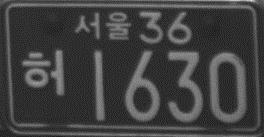0: (208, 51, 247, 126)
1: (89, 47, 110, 122)
3: (165, 49, 203, 122), (138, 10, 164, 45)
6: (124, 50, 161, 122), (167, 10, 192, 46)
서울_O: (74, 9, 131, 42)
허: (22, 47, 65, 97)
